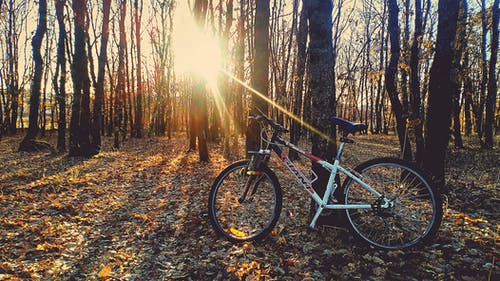bicycle: (204, 99, 448, 260)
